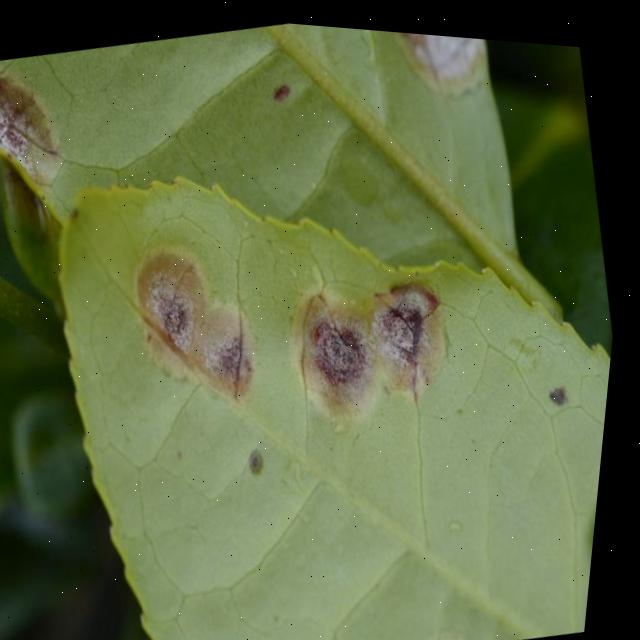Tea cake: (279, 274, 384, 404), (362, 263, 460, 384), (131, 235, 222, 357), (0, 59, 74, 192), (193, 297, 278, 382)
